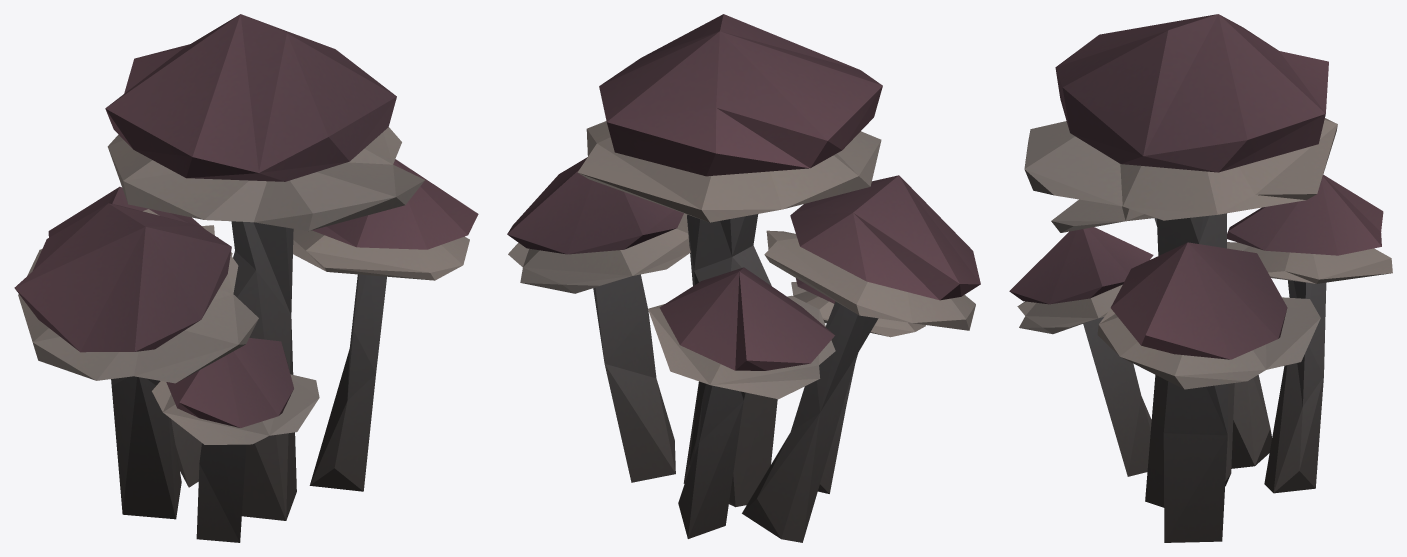
File: Mush_2C_LOD.fbx
3 renders of one model, left to right at view 1: azimuth 30°, elevation 25°; view 2: azimuth 150°, elevation 25°; view 3: azimuth 270°, elevation 25°, orthographic. The views are drawn at different scales.
Parts seen in each view (by area): view 1: polySurface1319; view 2: polySurface1319; view 3: polySurface1319.
Part boxes in pixels (x1,y1,x2,y2): polySurface1319: (14, 14, 478, 542); polySurface1319: (507, 14, 980, 542); polySurface1319: (1009, 14, 1392, 542).
Bounding box in the file's own units: 2.04 × 2.13 × 1.51.
